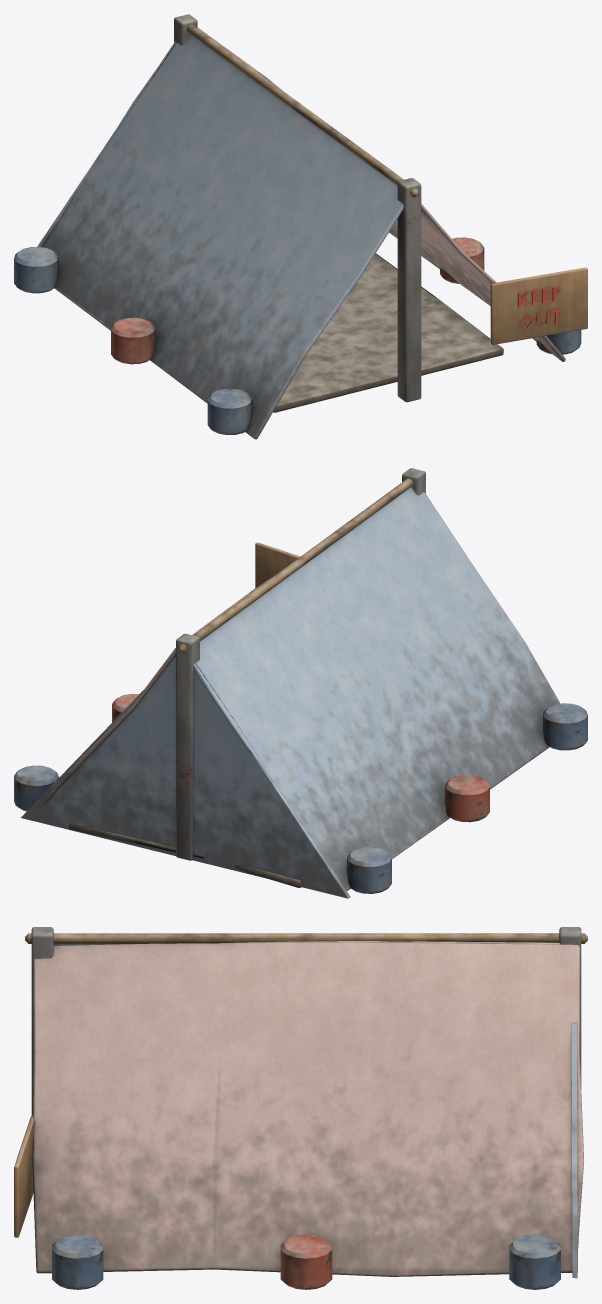
File: survivor_tent.fbx
3 views of the same model, one above another, from view 1: azimuth 30°, elevation 25°; view 2: azimuth 150°, elevation 25°; view 3: azimuth 270°, elevation 25° (orthographic). The views are drawn at different scales.
Visible parts, largest first — view 1: Body; view 2: Body; view 3: Body.
Part boxes in pixels (x1=…): Body: x1=14, y1=14, x2=587, y2=439; Body: x1=14, y1=468, x2=587, y2=898; Body: x1=14, y1=927, x2=587, y2=1289.
Size of the model in its own units: 5.7 by 3.24 by 6.52.
1 material, 1 textured.
